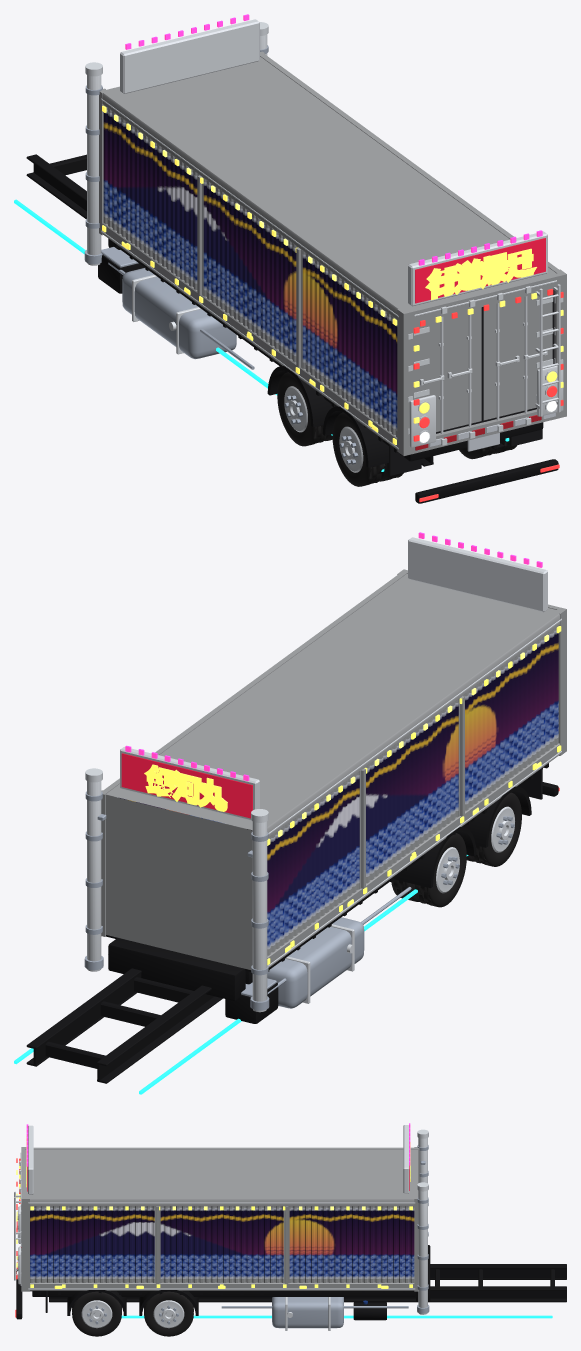
File: body_base.glb
3 renders of one model, top to bottom at view 1: azimuth 30°, elevation 25°; view 2: azimuth 150°, elevation 25°; view 3: azimuth 270°, elevation 25°, orthographic. The views are drawn at different scales.
Parts seen in each view (by area): view 1: truck_paint_white_box, truck_mural, truck_chrome, truck_box_metal, truck_plastic_black, truck_steel, truck_lamp_amber, wheel_r_L_1.5_1.06, wheel_r_L_3.0_1.06, truck_andon_panel, truck_rubber, truck_lamp_red (+3 smaller); view 2: truck_paint_white_box, truck_mural, truck_plastic_black, truck_chrome, truck_box_metal, truck_steel, truck_lamp_amber, truck_andon_panel, wheel_r_L_3.0_1.06, wheel_r_L_1.5_1.06, truck_lamp_cyan, truck_lamp_pink; view 3: truck_mural, truck_paint_white_box, truck_box_metal, truck_plastic_black, truck_chrome, truck_steel, wheel_r_R_1.5_1.06, wheel_r_R_3.0_1.06, truck_lamp_cyan, truck_lamp_amber.
Boxes of the visible parts, <box> form: truck_paint_white_box: <box>103,56,556,437</box>; truck_mural: <box>103,110,397,430</box>; truck_chrome: <box>85,19,563,449</box>; truck_box_metal: <box>99,51,566,455</box>; truck_plastic_black: <box>26,154,558,503</box>; truck_steel: <box>84,45,268,369</box>; truck_lamp_amber: <box>102,105,563,444</box>; wheel_r_L_1.5_1.06: <box>332,412,386,486</box>; wheel_r_L_3.0_1.06: <box>277,372,328,446</box>; truck_andon_panel: <box>415,238,545,303</box>; truck_rubber: <box>389,290,554,475</box>; truck_lamp_red: <box>413,289,563,502</box>; truck_paint_white_box: <box>106,573,558,969</box>; truck_mural: <box>117,630,558,949</box>; truck_plastic_black: <box>26,763,558,1083</box>; truck_chrome: <box>85,537,561,1012</box>; truck_box_metal: <box>101,569,566,967</box>; truck_steel: <box>84,791,411,1010</box>; truck_lamp_amber: <box>144,626,561,965</box>; truck_andon_panel: <box>121,753,252,818</box>; wheel_r_L_3.0_1.06: <box>412,833,466,907</box>; wheel_r_L_1.5_1.06: <box>471,792,521,866</box>; truck_lamp_cyan: <box>14,855,468,1094</box>; truck_lamp_pink: <box>125,532,542,781</box>; truck_mural: <box>30,1208,414,1278</box>; truck_paint_white_box: <box>25,1149,418,1282</box>; truck_box_metal: <box>21,1147,419,1291</box>; truck_plastic_black: <box>16,1245,566,1320</box>; truck_chrome: <box>14,1125,428,1330</box>; truck_steel: <box>221,1145,429,1328</box>; wheel_r_R_1.5_1.06: <box>72,1291,121,1336</box>; wheel_r_R_3.0_1.06: <box>144,1291,193,1336</box>; truck_lamp_cyan: <box>121,1315,552,1318</box>; truck_lamp_amber: <box>16,1136,412,1288</box>.
Bounding box in the file's own units: 2.85 × 3.91 × 11.53.
18 materials, 4 textured.
